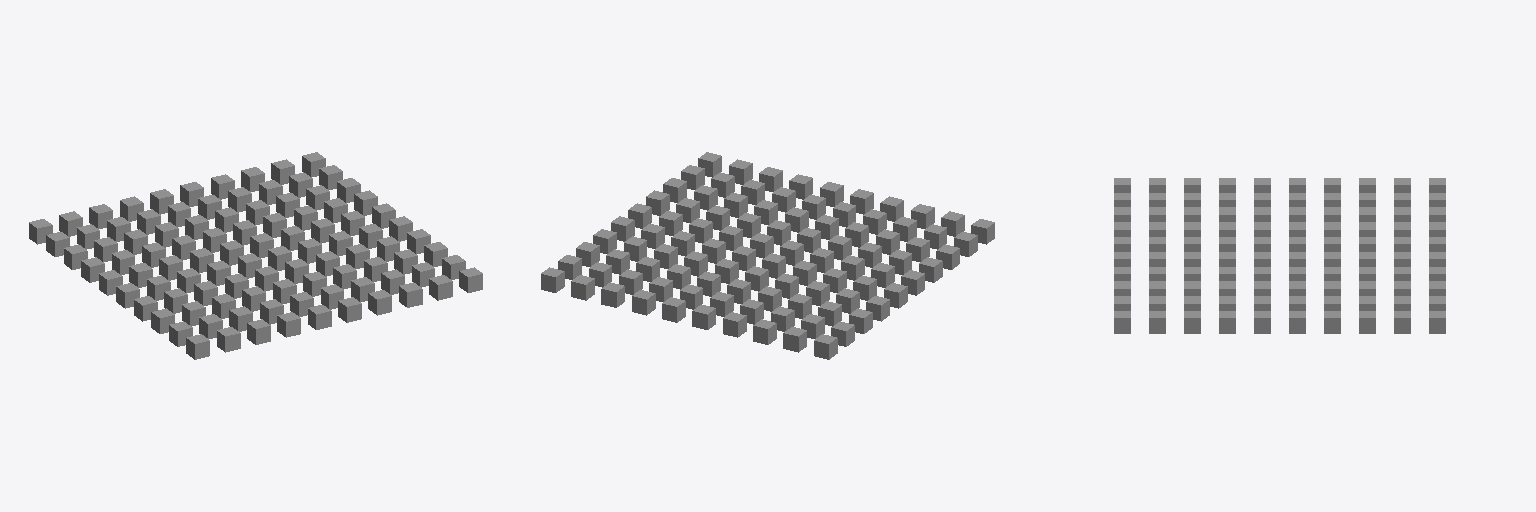
Rendered from cubearray.obj.
3 views of the same model, side by side, from view 1: azimuth 30°, elevation 25°; view 2: azimuth 150°, elevation 25°; view 3: azimuth 270°, elevation 25° (orthographic).
Bounding box in the file's own units: 19 × 1 × 19.